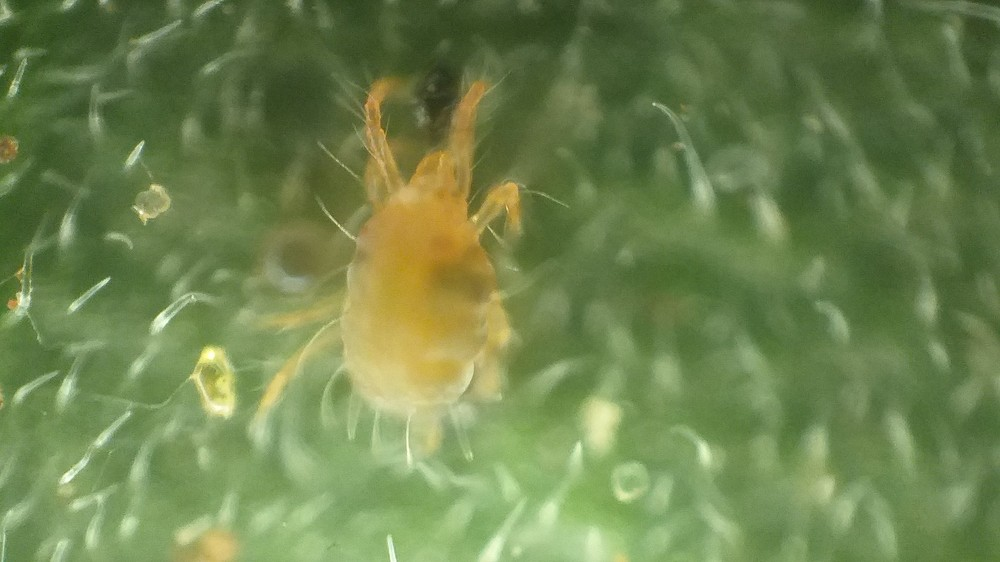Aracnido Rojo: (252, 71, 577, 504)
